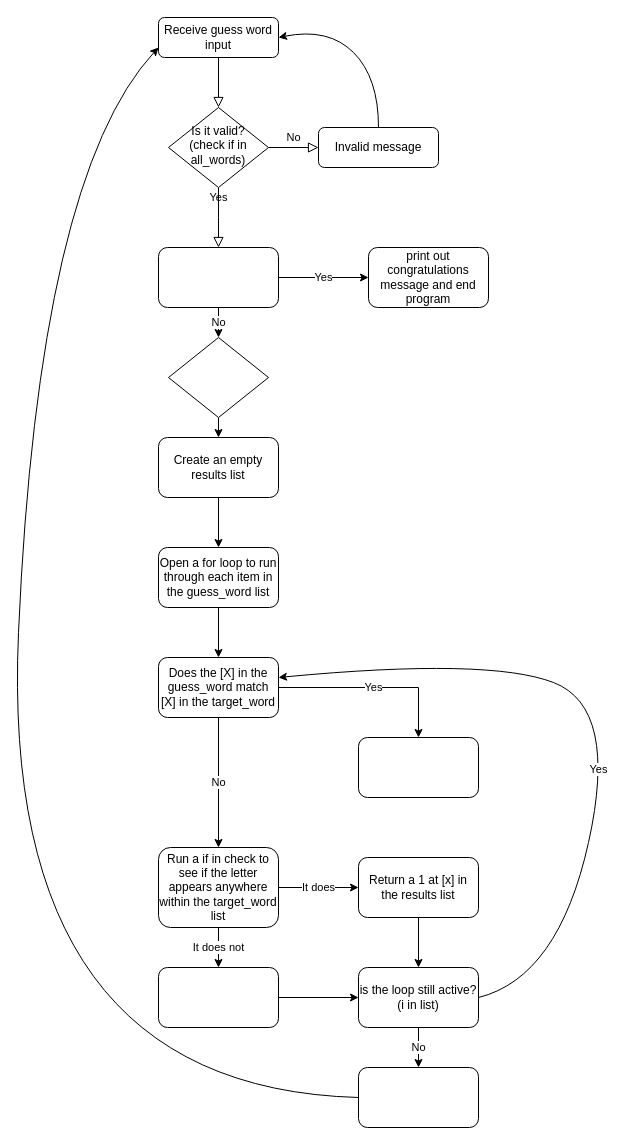
Image size: 625x1145. Some labels were removed from this diagram. The box of each missing label's shape, as (x1, y1, x2, y2) in pixels:
Convert word into a list: (168, 336, 268, 418)
Guess count + 1: (358, 1066, 478, 1128)
Is the guess the winning word?: (158, 246, 278, 308)
Return a 0 at [X] in the results list: (158, 966, 278, 1028)
Return a 2 to the [X] spot in the results list: (358, 736, 478, 798)
